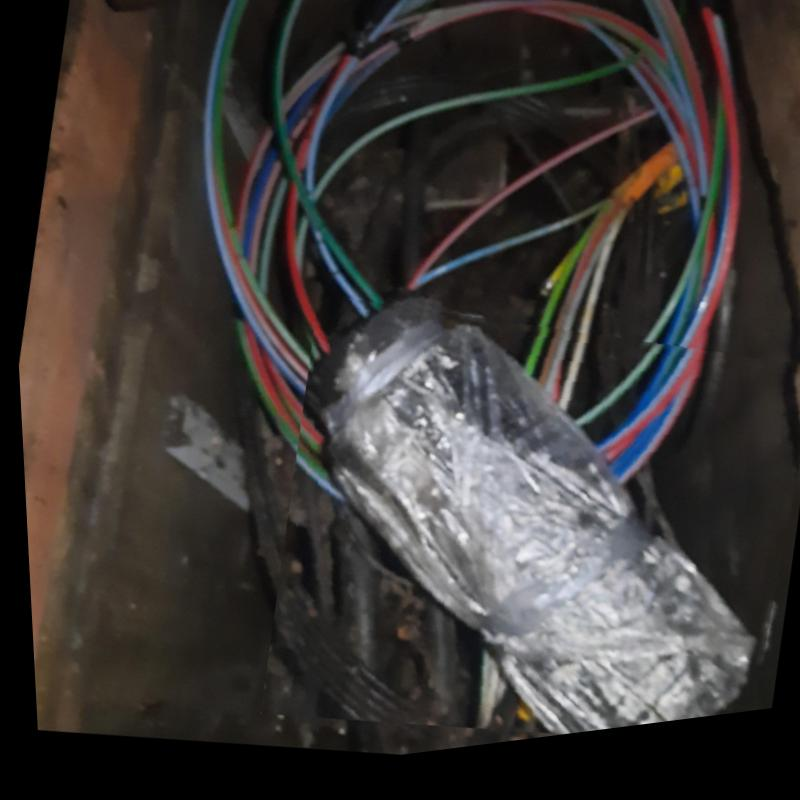NT-Muffen: (303, 313, 758, 748)
